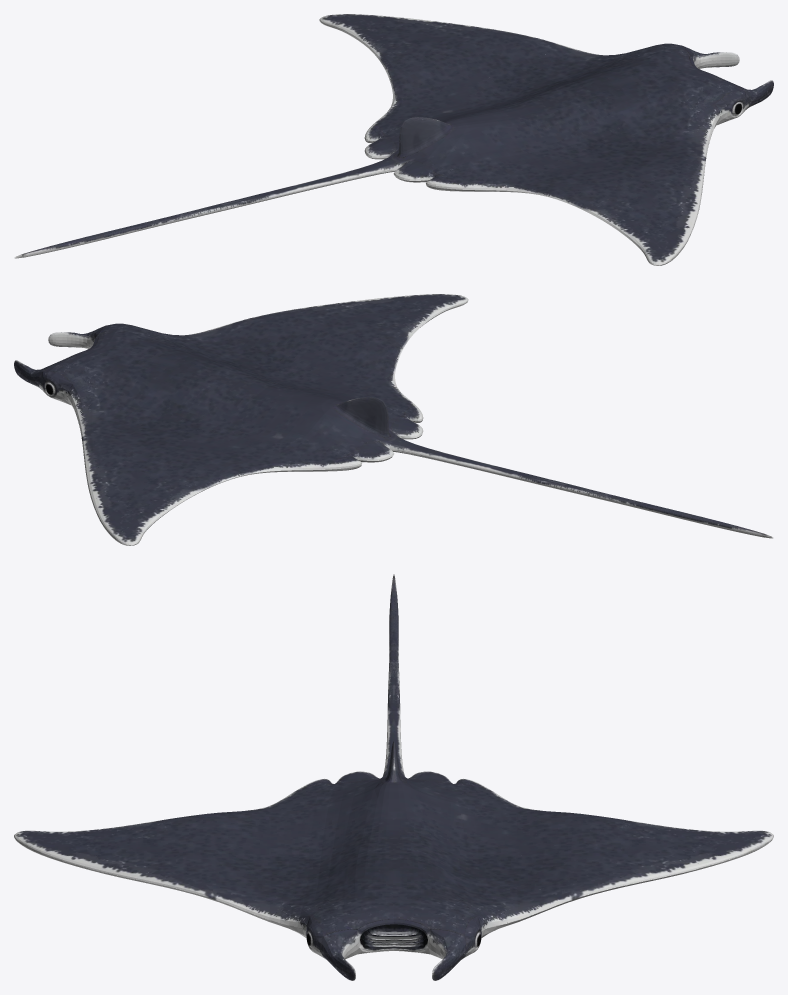
The model's file is manta.glb.
3 renders of one model, top to bottom at view 1: azimuth 30°, elevation 25°; view 2: azimuth 150°, elevation 25°; view 3: azimuth 270°, elevation 25°, orthographic. The views are drawn at different scales.
Visible parts, largest first — view 1: manta; view 2: manta; view 3: manta.
Part boxes in pixels (left/top/right/bottom): manta: left=14, top=14, right=773, bottom=265; manta: left=14, top=294, right=773, bottom=545; manta: left=14, top=574, right=773, bottom=980.
Bounding box in the file's own units: 1 × 0.0798 × 0.7895.
Materials: 1 (1 with a texture image).
